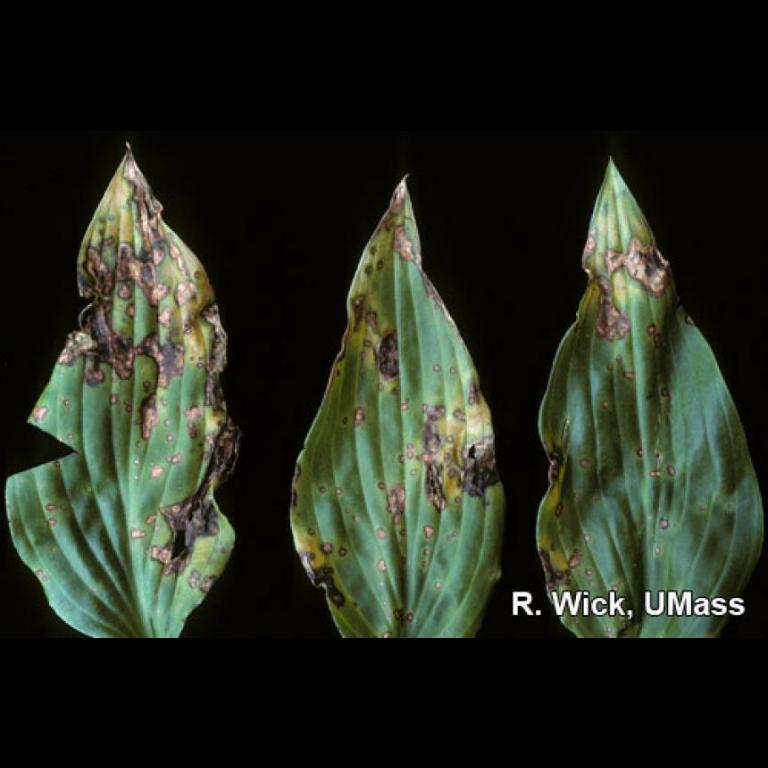blight: (90, 219, 207, 389), (412, 374, 482, 530)
